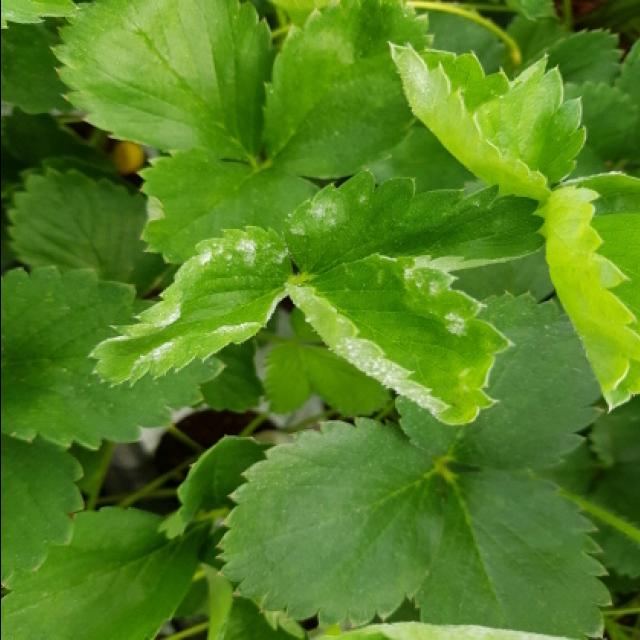Powdery Mildew Leaf: (282, 251, 515, 427), (84, 225, 291, 390), (386, 39, 585, 198), (282, 168, 545, 279), (528, 173, 640, 412)
